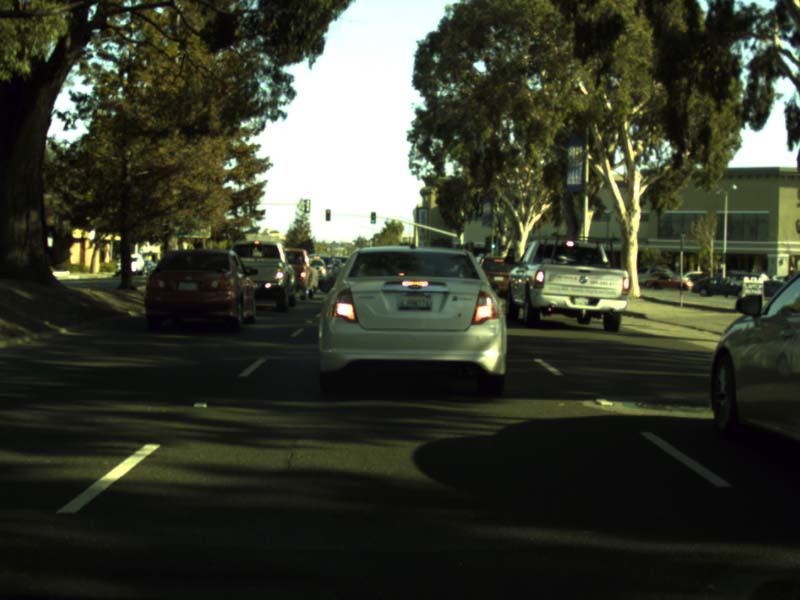Green: (371, 213, 374, 222)
Red: (324, 209, 330, 220)
